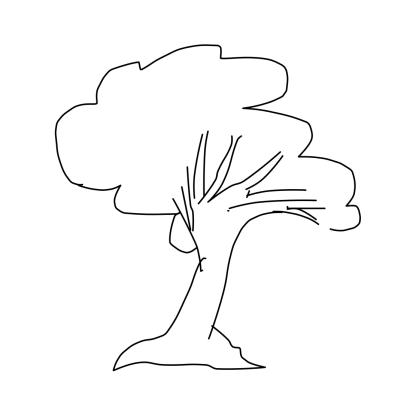branch_line: (172, 127, 328, 240)
crown_cloud: (51, 43, 364, 253)
root_only: (108, 327, 268, 376)
trunk_reflex: (164, 254, 233, 328)
